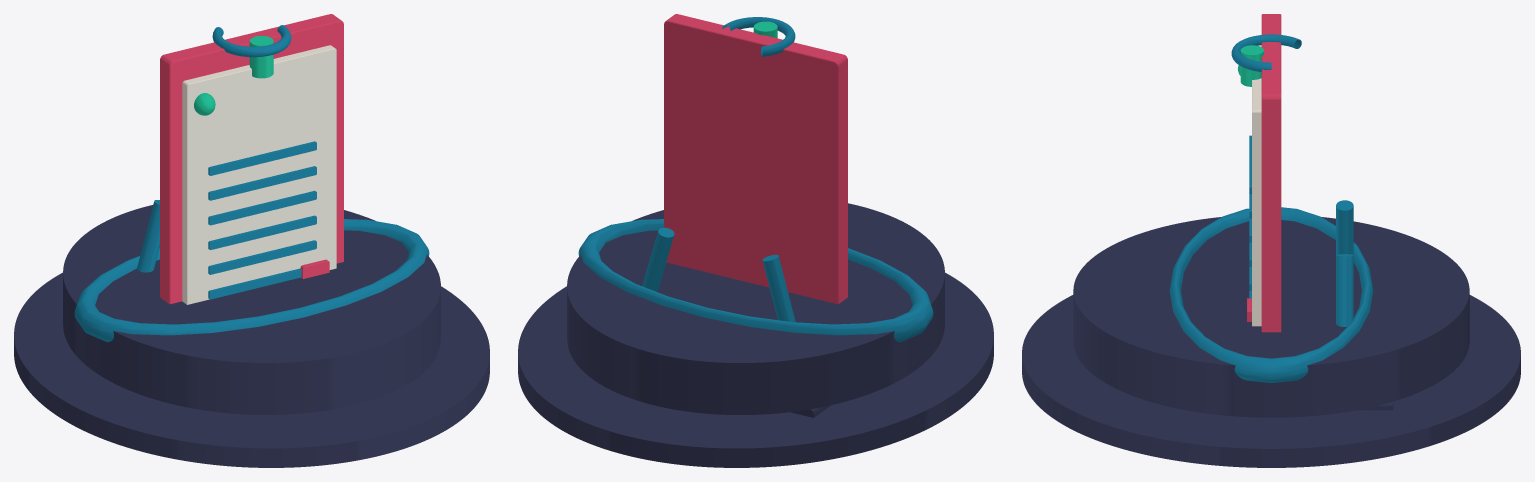
File: 1126_左传_殽之战地图.glb
3 renders of one model, left to right at view 1: azimuth 30°, elevation 25°; view 2: azimuth 150°, elevation 25°; view 3: azimuth 270°, elevation 25°, orthographic. The views are drawn at different scales.
Visible parts, largest first — view 1: card_1126; view 2: card_1126; view 3: card_1126.
Part boxes in pixels (bbox=[...]): card_1126: bbox=[14, 14, 489, 467]; card_1126: bbox=[518, 14, 993, 467]; card_1126: bbox=[1022, 14, 1520, 467].
Bounding box in the file's own units: 1.27 × 1 × 1.4.
